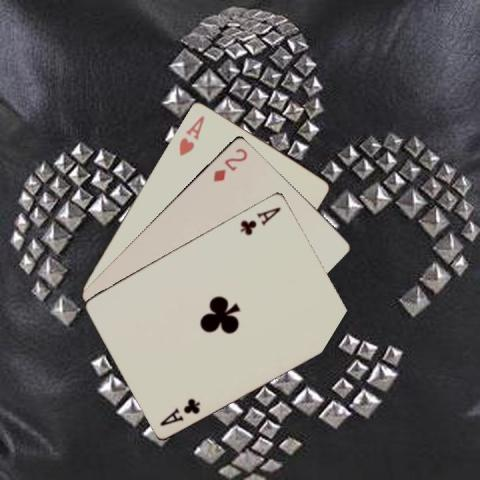2d: (210, 145, 249, 183)
Ac: (237, 203, 283, 237), (157, 395, 202, 427)
Ah: (175, 112, 206, 157)
